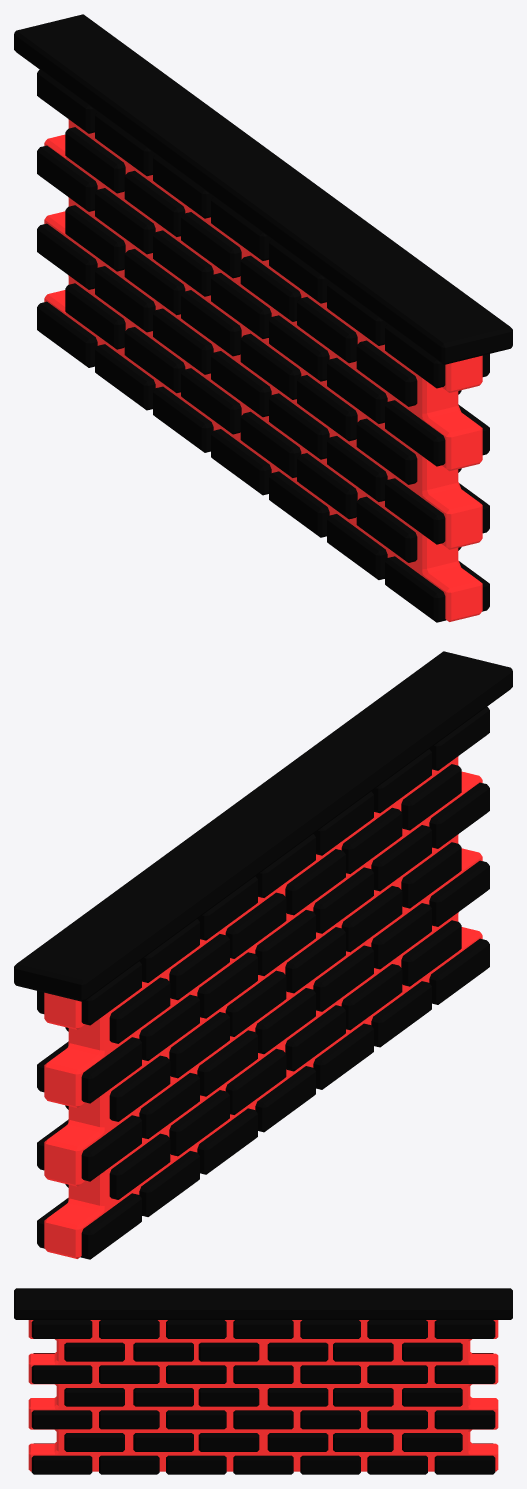
Rendered from Boss_Firewall.fbx.
3 renders of one model, top to bottom at view 1: azimuth 30°, elevation 25°; view 2: azimuth 150°, elevation 25°; view 3: azimuth 270°, elevation 25°, orthographic. The views are drawn at different scales.
Visible parts, largest first — view 1: Firewall; view 2: Firewall; view 3: Firewall.
Part boxes in pixels (left/top/right/bottom): Firewall: left=14, top=14, right=512, bottom=622; Firewall: left=14, top=651, right=512, bottom=1259; Firewall: left=14, top=1288, right=512, bottom=1474.
Bounding box in the file's own units: 0.4375 × 1.71 × 4.55.
